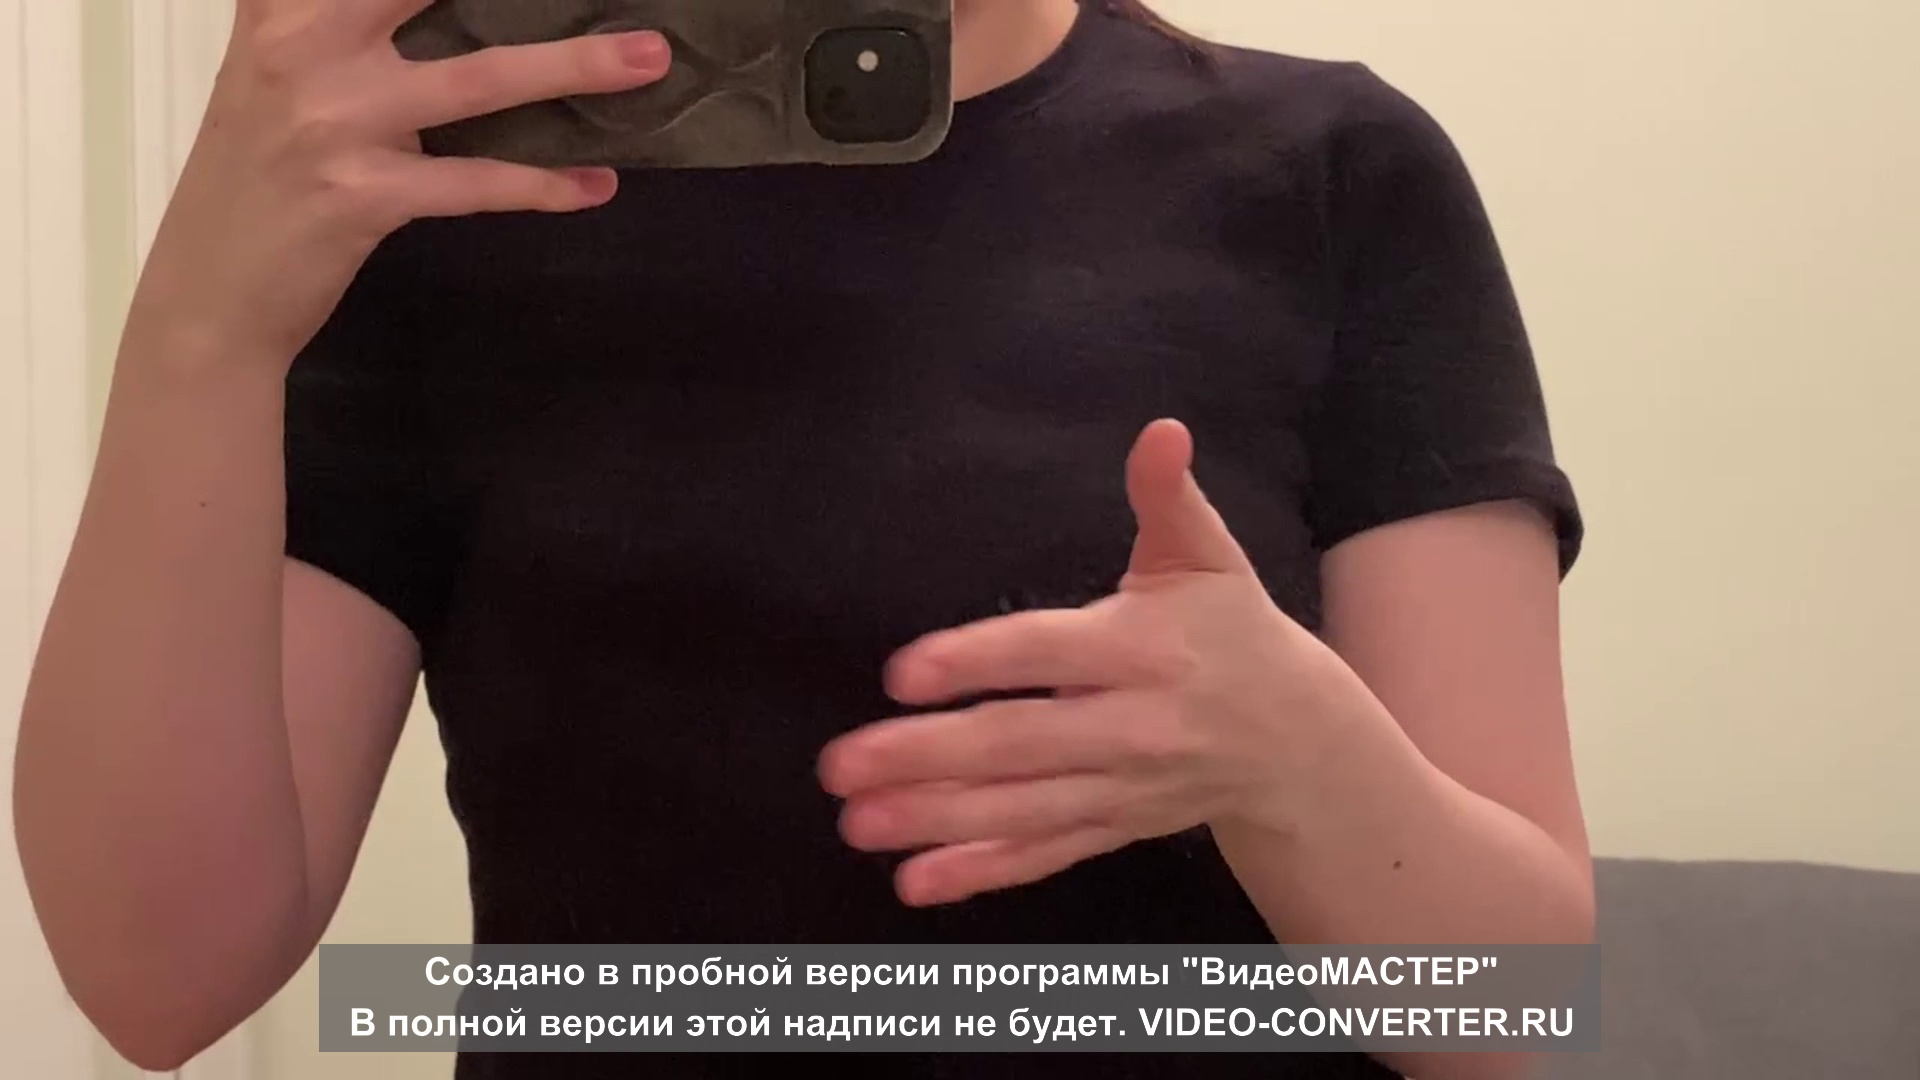Кисть: (812, 421, 1311, 913)
